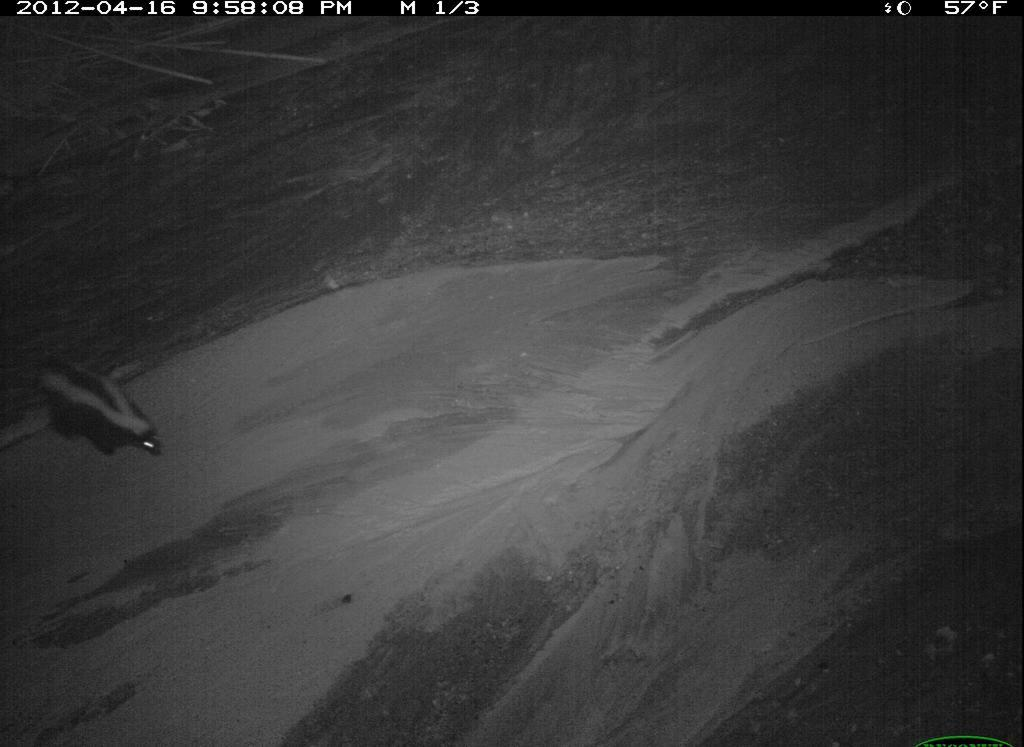skunk: (49, 689, 338, 747)
